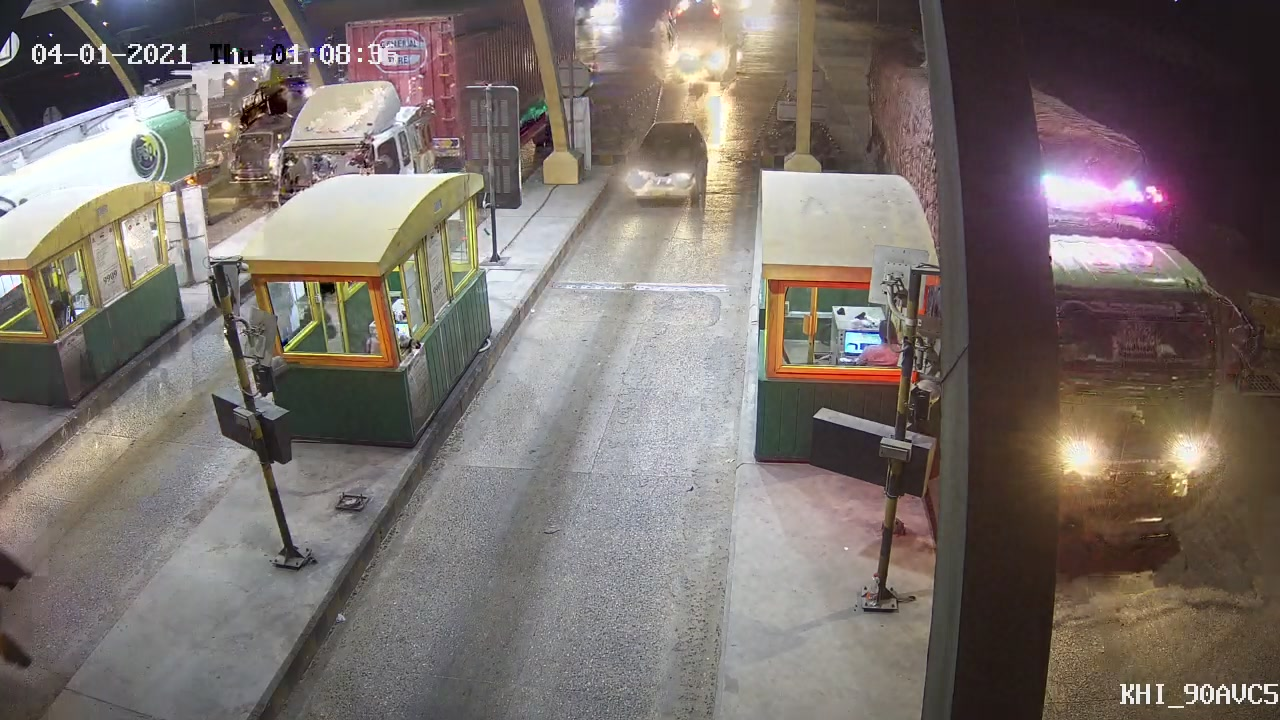F1: (610, 116, 715, 217)
